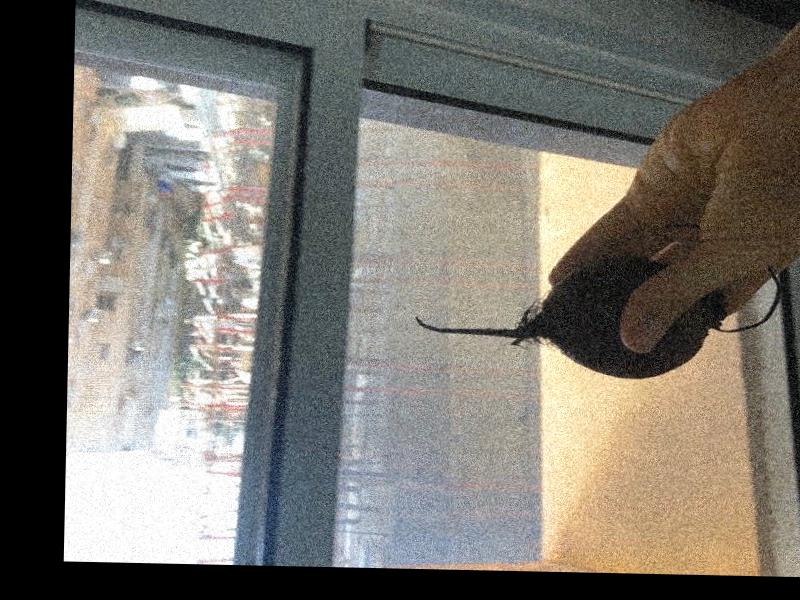Beet: (413, 216, 781, 382)
